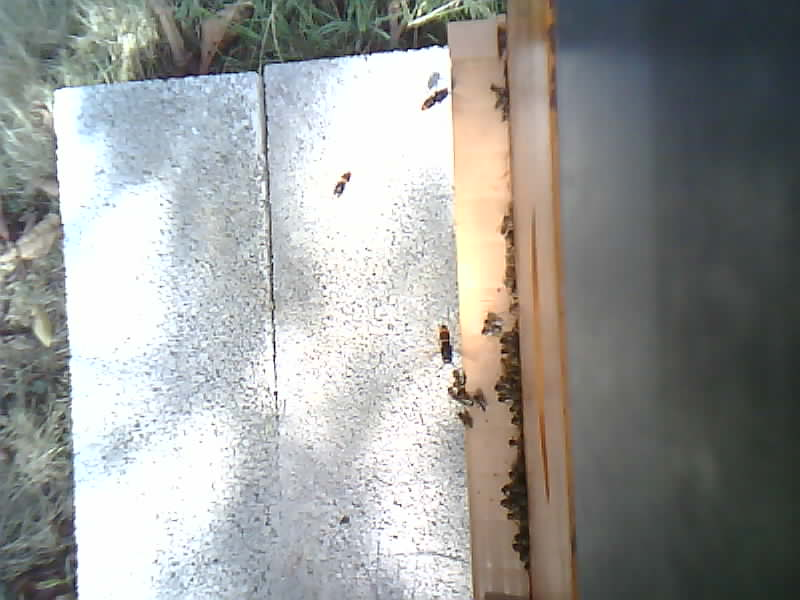bee: (492, 450, 525, 517), (492, 363, 525, 417), (512, 524, 536, 568), (449, 372, 475, 408), (489, 316, 512, 351), (493, 80, 511, 116), (331, 165, 350, 196), (504, 425, 522, 445)
hornet: (417, 83, 456, 113), (434, 319, 456, 365)
